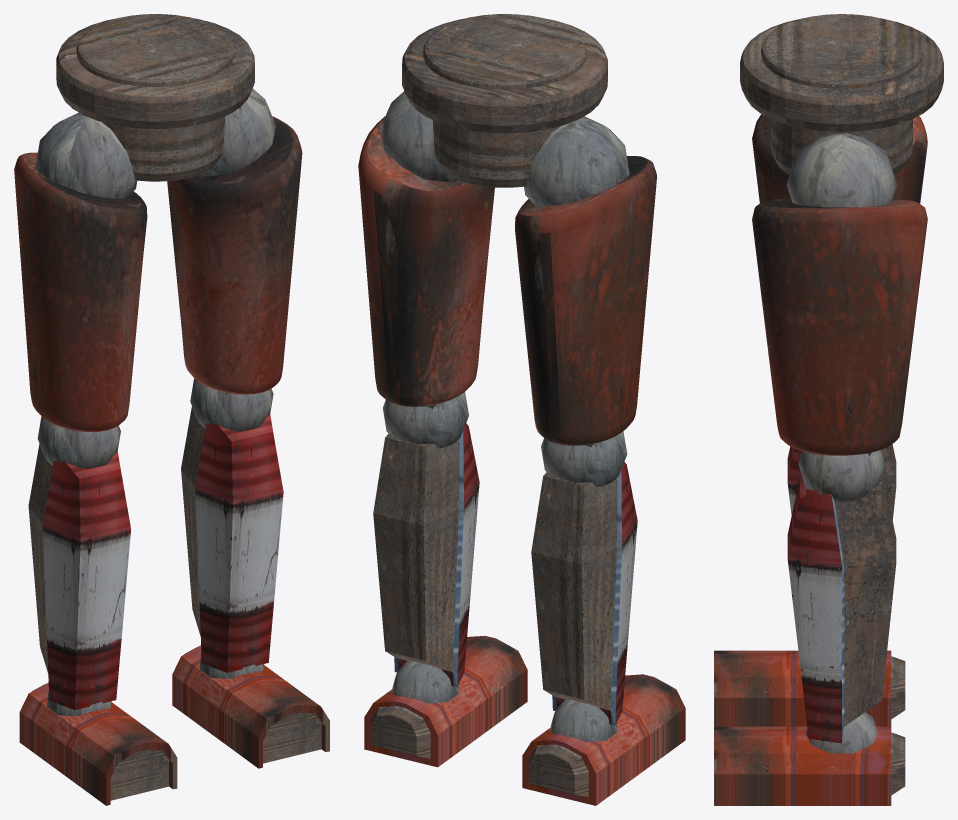
The model's file is Robot 1 Legs.fbx.
3 views of the same model, side by side, from view 1: azimuth 30°, elevation 25°; view 2: azimuth 150°, elevation 25°; view 3: azimuth 270°, elevation 25° (orthographic). The views are drawn at different scales.
Parts seen in each view (by area): view 1: Icosphere, Icosphere.001, Icosphere.002, Icosphere.003, Cylinder.004, Cube.015, Cube.009; view 2: Icosphere, Icosphere.001, Icosphere.002, Icosphere.003, Cylinder.004, Cube.015, Cube.009; view 3: Icosphere.001, Icosphere.002, Cylinder.004, Cube.009, Cube.015, Icosphere, Icosphere.003.
Boxes of the visible parts, left/top/right/bottom form: Icosphere: left=14, top=112, right=147, bottom=431; Icosphere.001: left=167, top=88, right=302, bottom=394; Icosphere.002: left=181, top=378, right=283, bottom=678; Icosphere.003: left=28, top=416, right=130, bottom=716; Cylinder.004: left=56, top=14, right=254, bottom=181; Cube.015: left=19, top=682, right=177, bottom=805; Cube.009: left=172, top=645, right=329, bottom=768; Icosphere: left=515, top=116, right=656, bottom=447; Icosphere.001: left=358, top=91, right=494, bottom=408; Icosphere.002: left=373, top=392, right=479, bottom=703; Icosphere.003: left=531, top=431, right=637, bottom=741; Cylinder.004: left=402, top=14, right=607, bottom=187; Cube.015: left=522, top=674, right=685, bottom=805; Cube.009: left=364, top=636, right=527, bottom=767; Icosphere.001: left=752, top=134, right=927, bottom=455; Icosphere.002: left=787, top=450, right=896, bottom=753; Cylinder.004: left=740, top=14, right=943, bottom=174; Cube.009: left=714, top=726, right=905, bottom=805; Cube.015: left=714, top=650, right=905, bottom=726; Icosphere: left=752, top=114, right=927, bottom=203; Icosphere.003: left=787, top=444, right=896, bottom=520.
Bounding box in the file's own units: 290 × 751 × 222.
